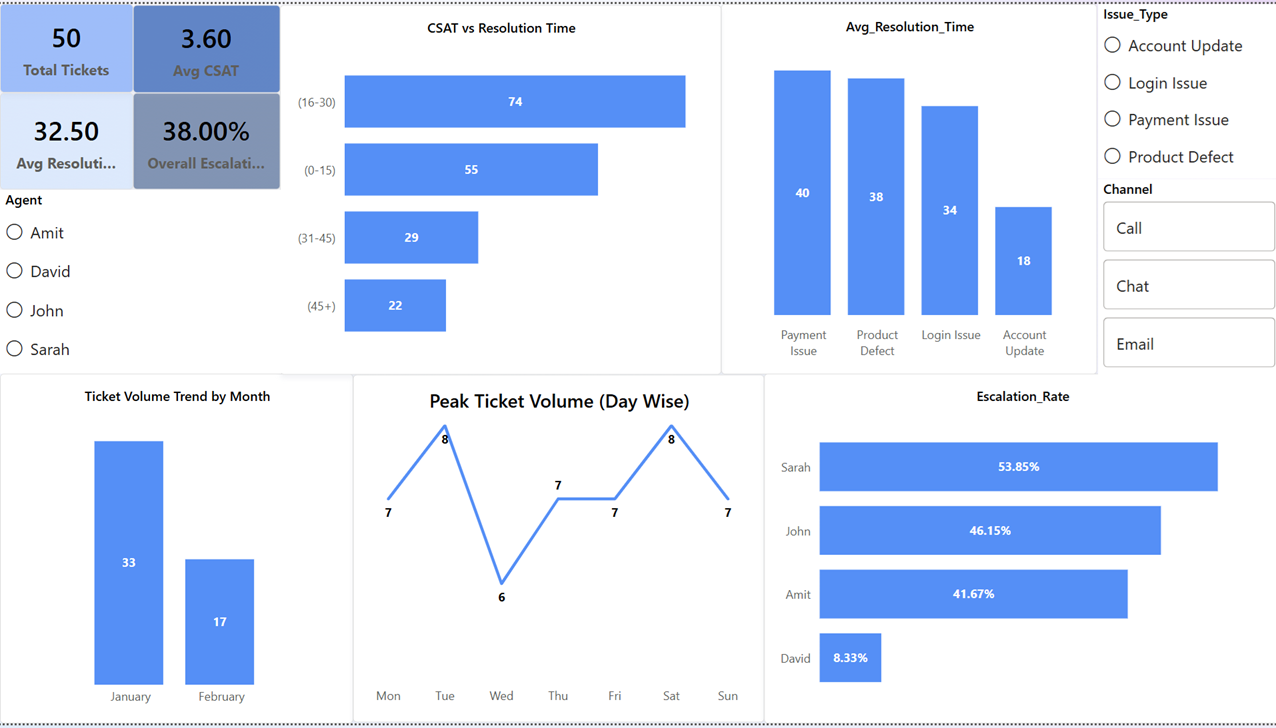

Layout of this report page (visuals, bound fields, positions):
{"tool":"powerbi","page":{"name":"Page 1","canvas":[1280,720],"ordinal":0},"visuals":[{"type":"card","fields":{"Values":["Sum(Dashboard.Total Tickets)"]},"box":[0,0,133,89.2],"z":0},{"type":"card","fields":{"Values":["Sum(Dashboard.Avg Resolution Time)"]},"box":[0,89.2,133,96.5],"z":1},{"type":"card","fields":{"Values":["Sum(Dashboard.Overall Escalation Rate)"]},"box":[133,89.2,147.5,96.5],"z":2},{"type":"card","fields":{"Values":["Sum(Dashboard.Avg CSAT)"]},"box":[133,0.9,147.5,88.3],"z":3},{"type":"columnChart","title":"Ticket Volume Trend by Month ","fields":{"Y":["CountNonNull(Raw_Data.Ticket_ID)"],"Category":["Raw_Data.Date.Variation.Date Hierarchy.Month"]},"box":[0,369.8,352.8,350.6],"z":4},{"type":"columnChart","title":"Avg_Resolution_Time","fields":{"Y":["Raw_Data.Avg_Resolution_Time"],"Category":["Raw_Data.Issue_Type"]},"box":[721.2,0,376.1,370.6],"z":5},{"type":"barChart","title":"CSAT vs Resolution Time ","fields":{"Category":["Raw_Data.Resolution_Time_bucket"],"Y":["Sum(Raw_Data.Customer_Satisfaction_Score)"]},"box":[280.5,0.9,440.7,369.7],"z":6},{"type":"lineChart","title":"Peak Ticket Volume (Day Wise) ","fields":{"Category":["Raw_Data.Day_of_Week"],"Y":["CountNonNull(Raw_Data.Ticket_ID)"]},"box":[353.3,370.6,410.7,348.8],"z":7},{"type":"barChart","title":"Escalation_Rate","fields":{"Category":["Raw_Data.Agent"],"Y":["Raw_Data.Escalation_Rate"]},"box":[764.3,370.4,516.1,349.4],"z":8},{"type":"advancedSlicerVisual","fields":{"Values":["Raw_Data.Channel"]},"box":[1097.6,175.3,182.8,195.5],"z":9},{"type":"listSlicer","fields":{"Values":["Raw_Data.Issue_Type"]},"box":[1097.6,0,182.8,175.3],"z":10},{"type":"listSlicer","fields":{"Values":["Raw_Data.Agent"]},"box":[0,185.9,280.5,183.8],"z":11}]}

Visuals, with their boxes in screenshot pixels (x1, y1, x2, y2), scaled from the page's 1280x720 canvas onto the 1276x728 screenshot:
card - Sum(Dashboard.Total Tickets): left=0, top=0, right=133, bottom=90
card - Sum(Dashboard.Avg Resolution Time): left=0, top=90, right=133, bottom=188
card - Sum(Dashboard.Overall Escalation Rate): left=133, top=90, right=280, bottom=188
card - Sum(Dashboard.Avg CSAT): left=133, top=1, right=280, bottom=90
"Ticket Volume Trend by Month " columnChart: left=0, top=374, right=352, bottom=727
"Avg_Resolution_Time" columnChart: left=719, top=0, right=1094, bottom=375
"CSAT vs Resolution Time " barChart: left=280, top=1, right=719, bottom=375
"Peak Ticket Volume (Day Wise) " lineChart: left=352, top=375, right=762, bottom=727
"Escalation_Rate" barChart: left=762, top=375, right=1275, bottom=727
advancedSlicerVisual - Raw_Data.Channel: left=1094, top=177, right=1275, bottom=375
listSlicer - Raw_Data.Issue_Type: left=1094, top=0, right=1275, bottom=177
listSlicer - Raw_Data.Agent: left=0, top=188, right=280, bottom=374
